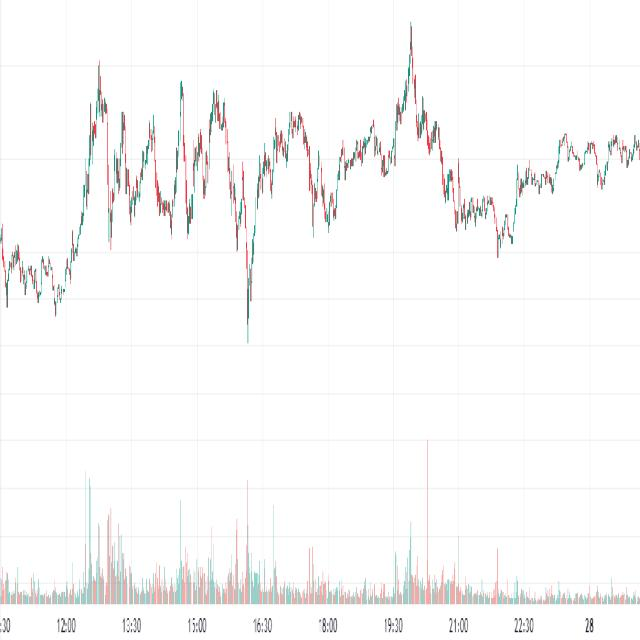Double-Bottom: (487, 173, 524, 268), (320, 179, 341, 235)
